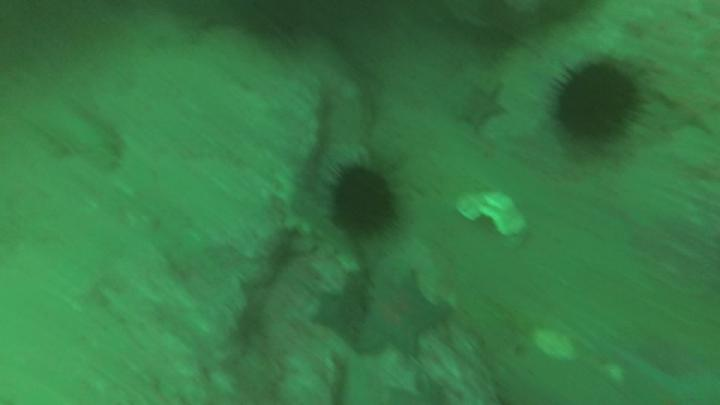echinus: (558, 66, 638, 142), (335, 169, 397, 234)
starfish: (363, 269, 442, 351), (313, 294, 362, 344), (459, 82, 504, 129)
